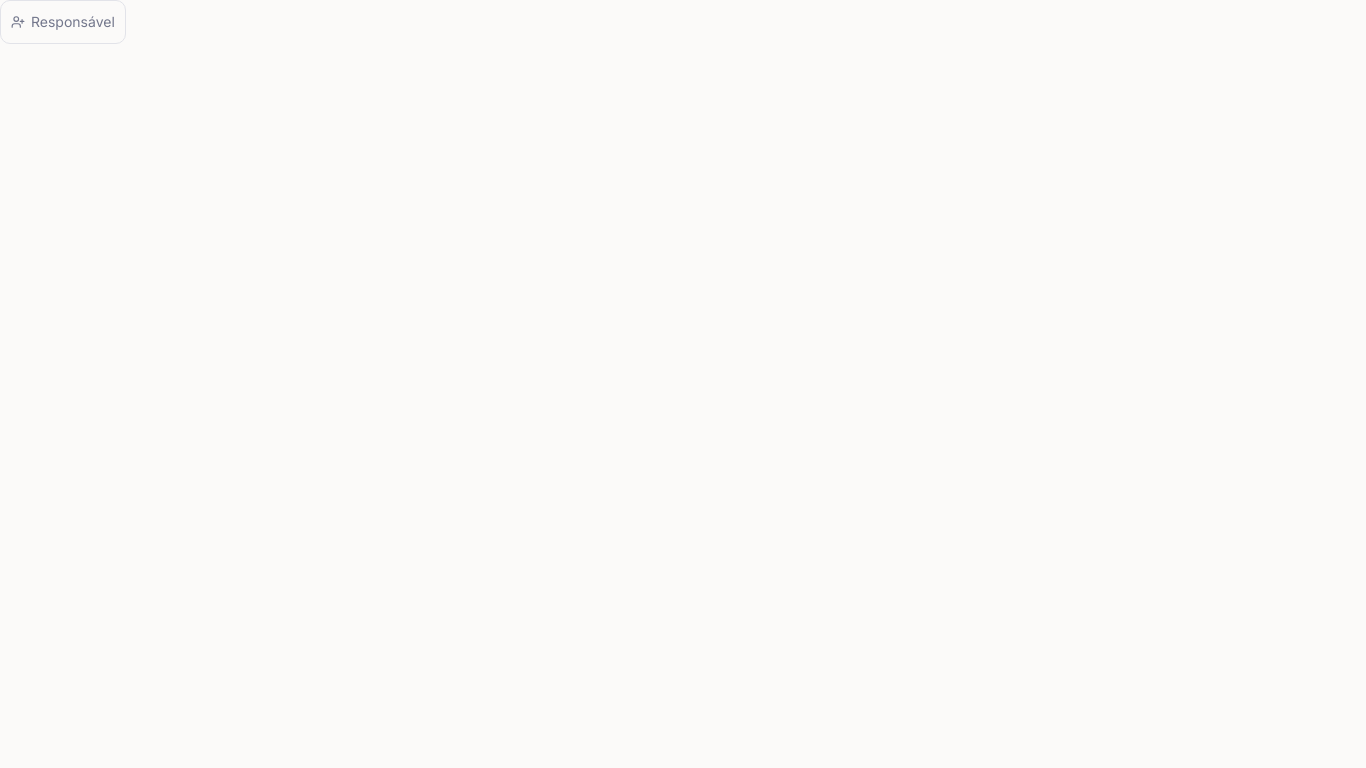
Test: AssigneeChip › keeps the search editable with zero matches (mobile=true)
Click the button with aria-label "Responsável: Responsável" at (63, 22), box [0, 0, 126, 44]
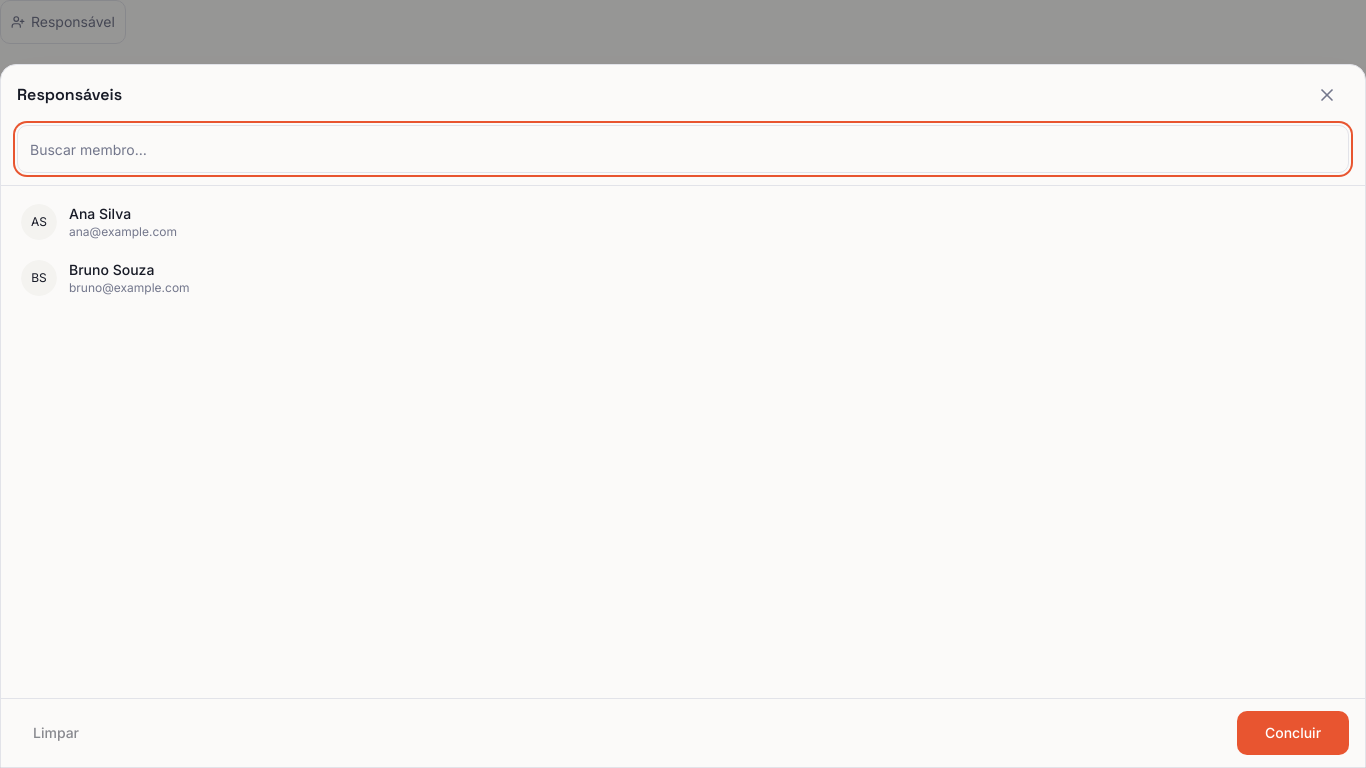
Type "Nome inexistente" into the field labelled "Buscar membro" at (683, 149), box [17, 125, 1349, 173]
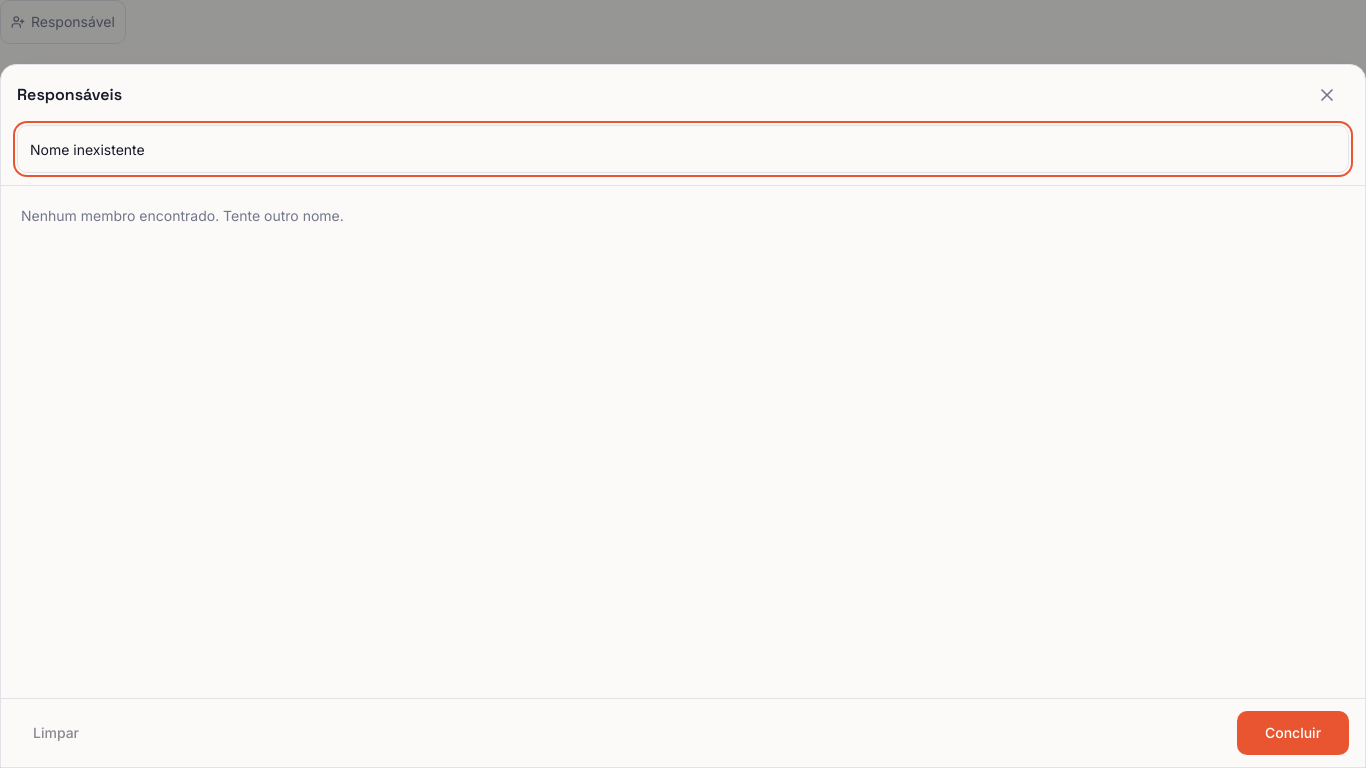
Now the text "Nenhum membro encontrado. Tente outro nome." is shown, box [21, 207, 344, 224]
Replace the text in the field named "Buscar membro" with "Ana" at (683, 149), box [17, 125, 1349, 173]
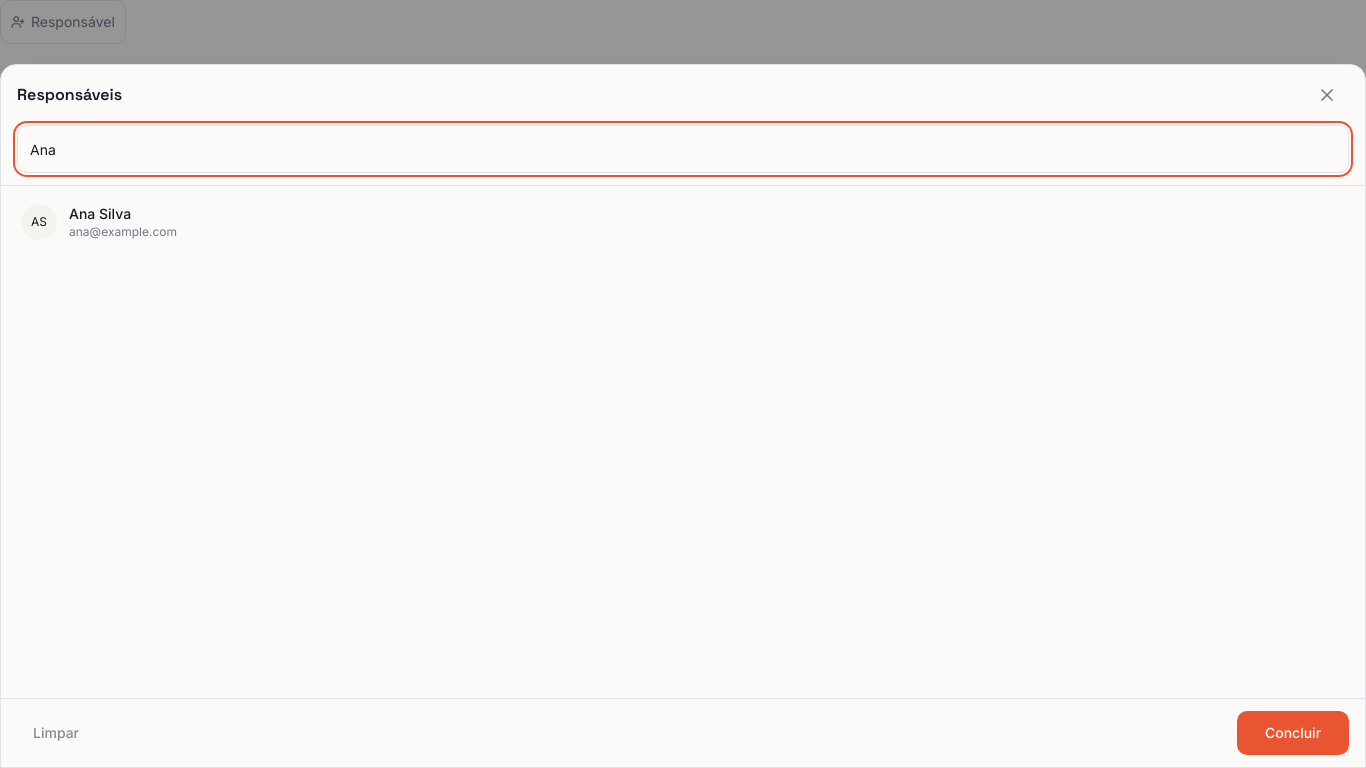
Expected: the button "Bruno Souza" is not shown
Now the button "AS Ana Silva ana@example.com" is shown, box [9, 194, 1357, 250]
